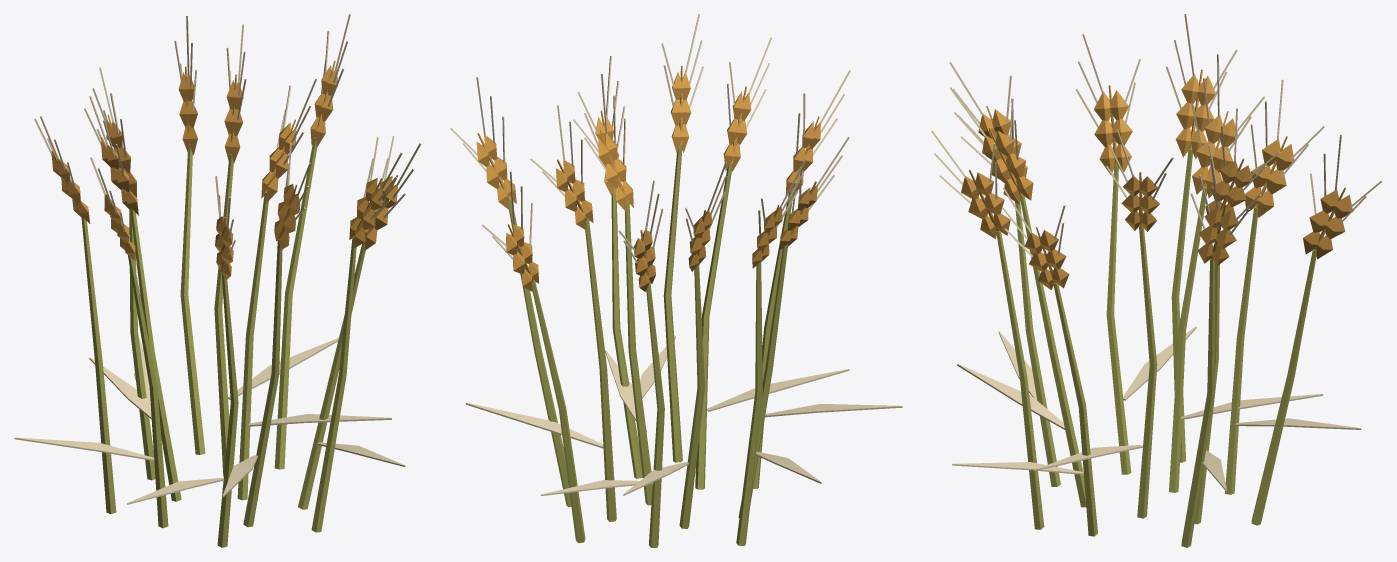
The model's file is crop_barley_mature.glb.
3 views of the same model, side by side, from view 1: azimuth 30°, elevation 25°; view 2: azimuth 150°, elevation 25°; view 3: azimuth 270°, elevation 25° (orthographic). The views are drawn at different scales.
Parts seen in each view (by area): view 1: barley_stalk_00, barley_head_00_rachis, barley_head_00_awn_00; view 2: barley_stalk_00, barley_head_00_rachis, barley_head_00_awn_00; view 3: barley_stalk_00, barley_head_00_rachis, barley_head_00_awn_00.
Boxes of the visible parts, x1,y1,x2,y2 form: barley_stalk_00: (81,137,365,547); barley_head_00_rachis: (51,61,398,280); barley_head_00_awn_00: (14,14,421,504); barley_stalk_00: (508,144,793,547); barley_head_00_rachis: (476,66,820,291); barley_head_00_awn_00: (450,14,902,495); barley_stalk_00: (996,148,1316,547); barley_head_00_rachis: (961,69,1353,289); barley_head_00_awn_00: (931,14,1382,491).
Bounding box in the file's own units: 1.14 × 1.35 × 1.28.
